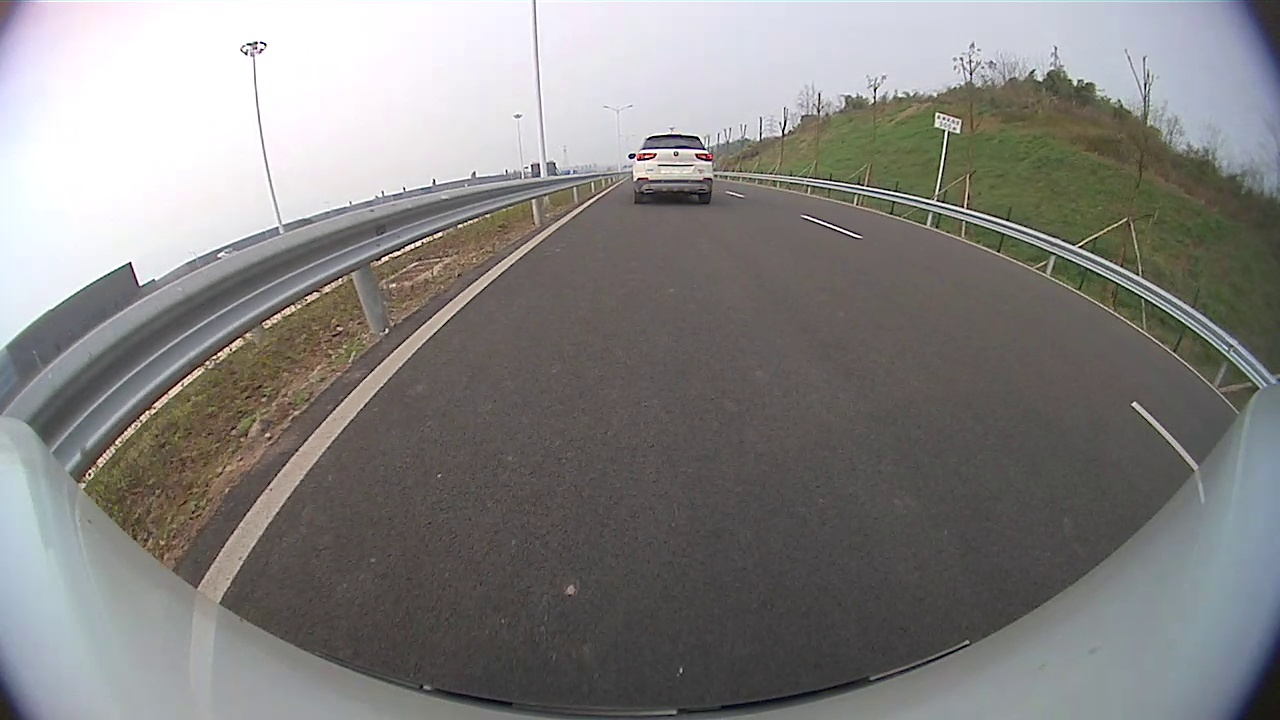car: (628, 132, 715, 205)
